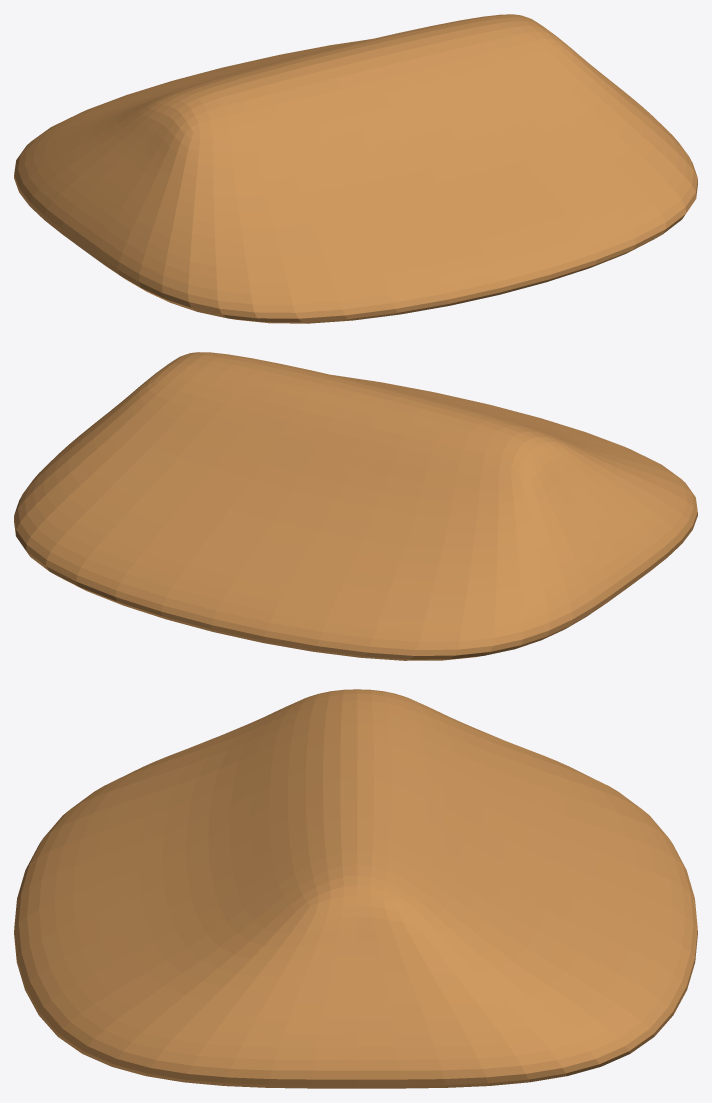
The model's file is SandPatch_Kicker.fbx.
The picture shows the model from 3 angles, top to bottom: view 1: azimuth 30°, elevation 25°; view 2: azimuth 150°, elevation 25°; view 3: azimuth 270°, elevation 25°; orthographic projection. The views are drawn at different scales.
Parts seen in each view (by area): view 1: SandPatch_Kicker; view 2: SandPatch_Kicker; view 3: SandPatch_Kicker.
Part boxes in pixels (x1=…): SandPatch_Kicker: x1=14, y1=14, x2=697, y2=323; SandPatch_Kicker: x1=14, y1=352, x2=697, y2=660; SandPatch_Kicker: x1=14, y1=689, x2=697, y2=1088.
Size of the model in its own units: 15.32 by 13.92 by 3.96.
